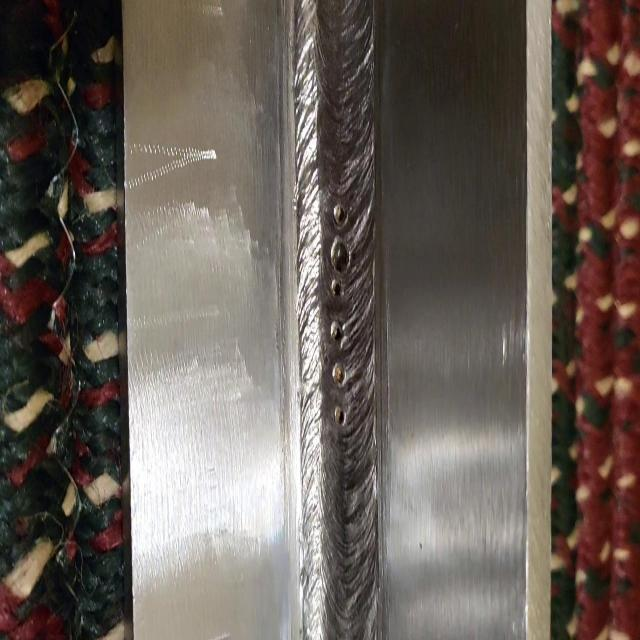Welding Line: (296, 6, 381, 640)
Workpiece: (124, 5, 550, 640)
porosity: (328, 200, 352, 427)
